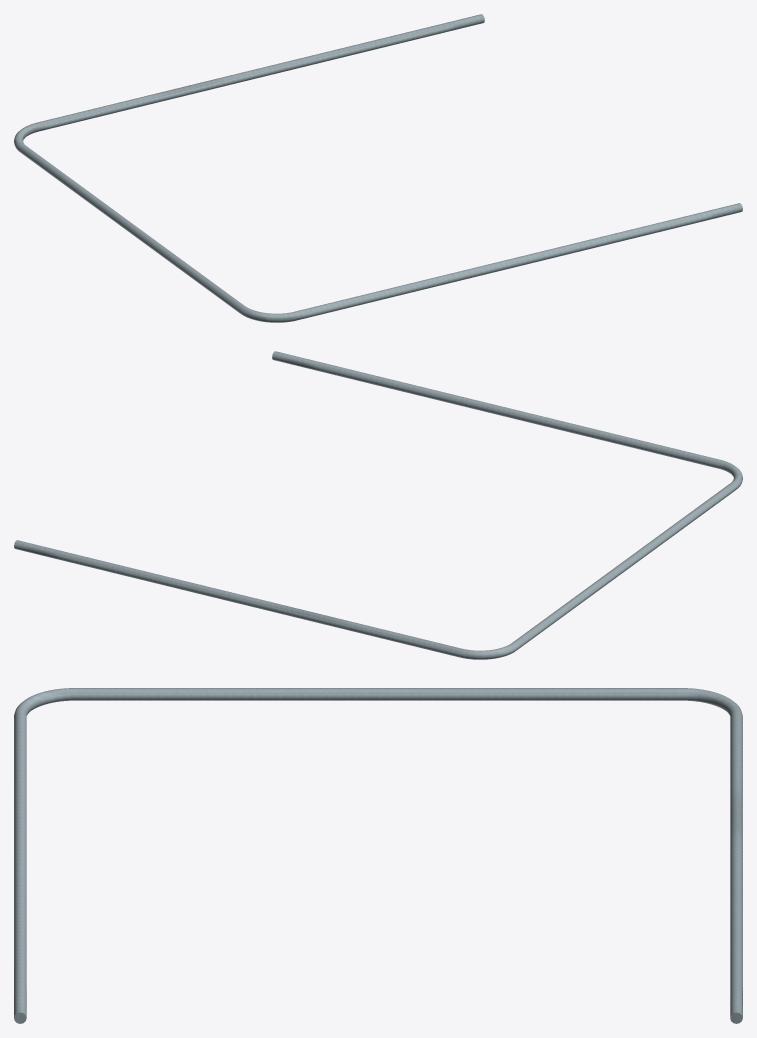
Rendered from 25-rolled-tin-rim-143.3-1.fbx.
3 renders of one model, top to bottom at view 1: azimuth 30°, elevation 25°; view 2: azimuth 150°, elevation 25°; view 3: azimuth 270°, elevation 25°, orthographic. The views are drawn at different scales.
Parts seen in each view (by area): view 1: rolled-tin-rim-143.3-1; view 2: rolled-tin-rim-143.3-1; view 3: rolled-tin-rim-143.3-1.
Part boxes in pixels (box(x1,y1,x2,y2)): rolled-tin-rim-143.3-1: box(14, 14, 742, 322); rolled-tin-rim-143.3-1: box(14, 351, 742, 659); rolled-tin-rim-143.3-1: box(14, 688, 742, 1023).
Size of the model in its own units: 8520 by 140 by 8039.
1 material, 1 textured.
